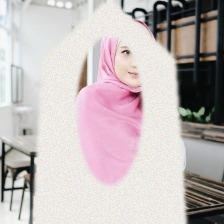Mukena: (27, 35, 191, 224)
